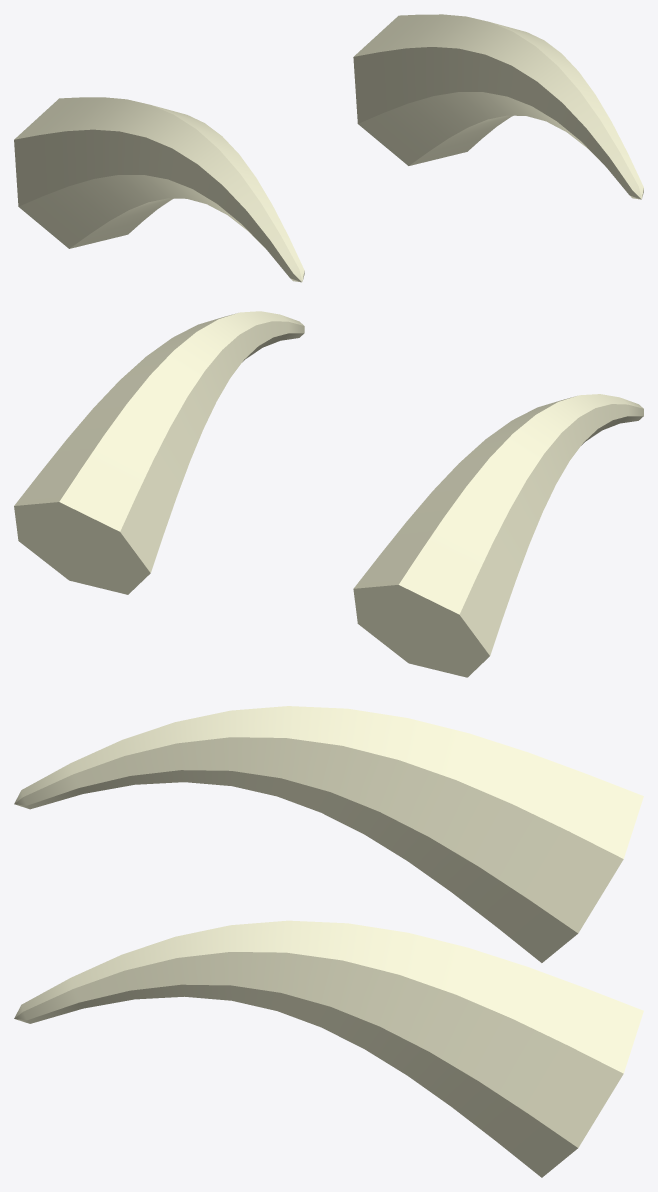
Rendered from tooth_fang.glb.
3 views of the same model, one above another, from view 1: azimuth 30°, elevation 25°; view 2: azimuth 150°, elevation 25°; view 3: azimuth 270°, elevation 25° (orthographic). The views are drawn at different scales.
Visible parts, largest first — view 1: tooth_fang; view 2: tooth_fang; view 3: tooth_fang.
Boxes of the visible parts, bbox=[...] form: tooth_fang: bbox=[14, 14, 643, 282]; tooth_fang: bbox=[14, 311, 643, 677]; tooth_fang: bbox=[14, 706, 643, 1177].
Size of the model in its own units: 0.2502 by 0.0934 by 0.2233.
